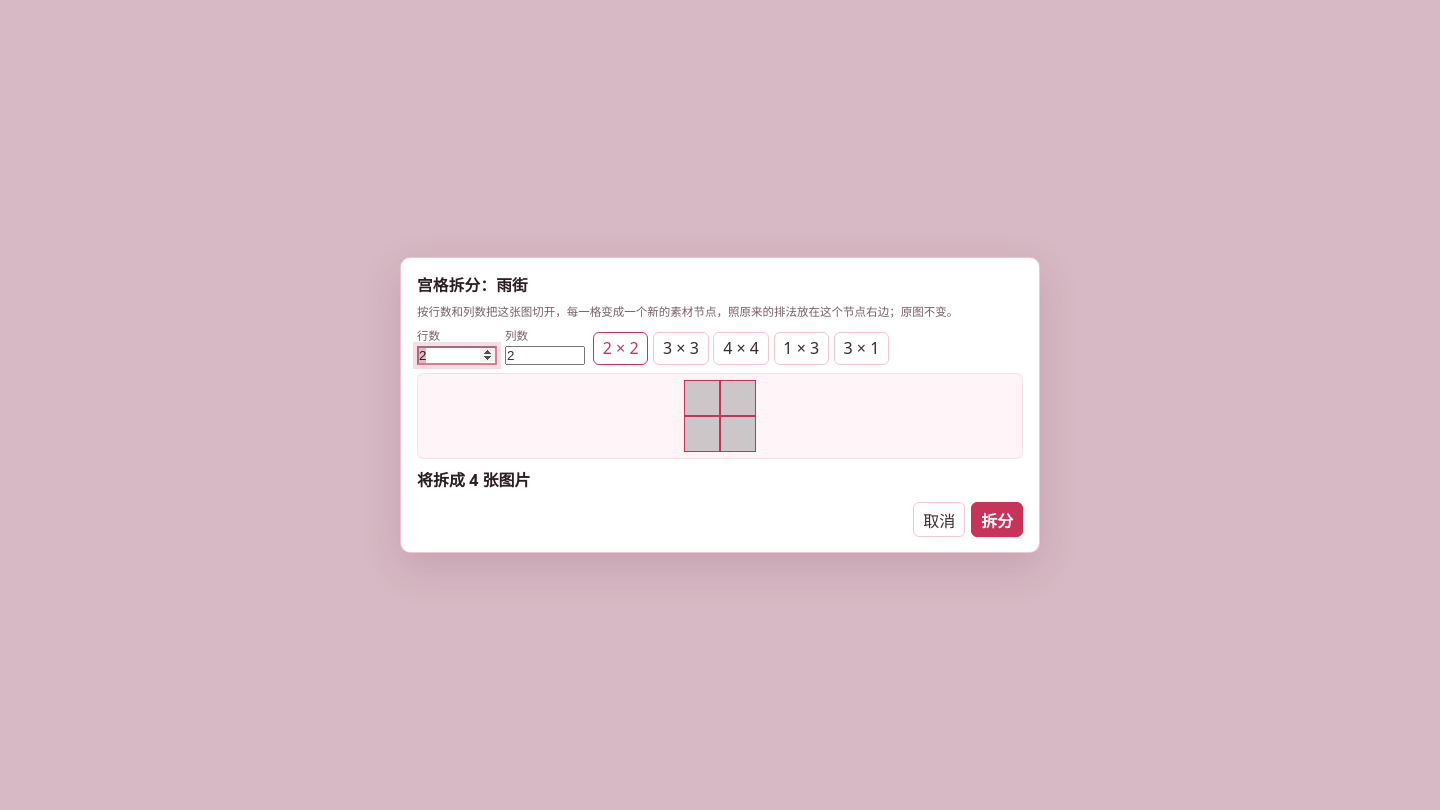
Test case: crop and grid split › the canvas that cannot be saved is not cut
Click the button "拆分" at coordinates (997, 520), box [971,502,1023,537]
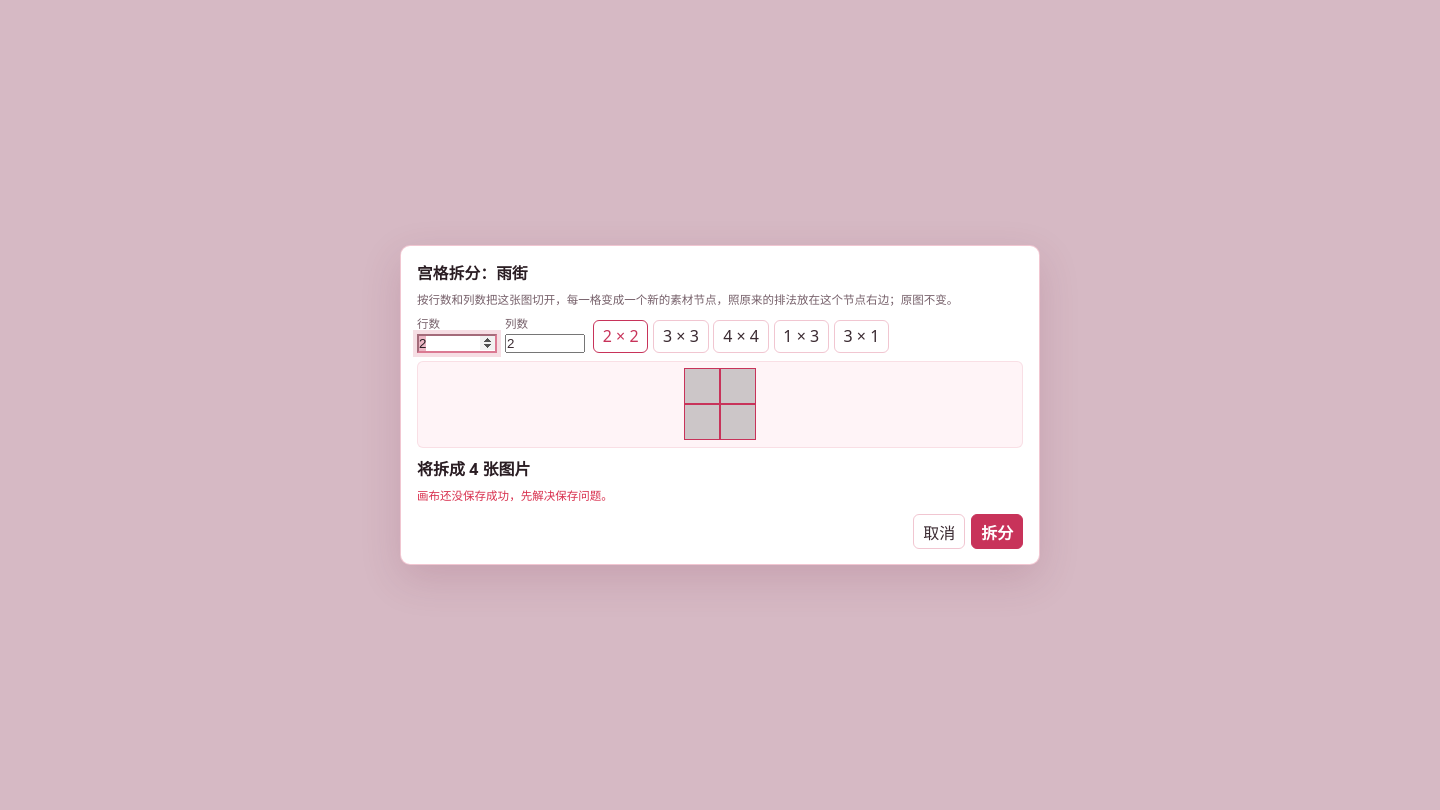
Now the message shows "画布还没保存成功", box [417,488,613,502]
